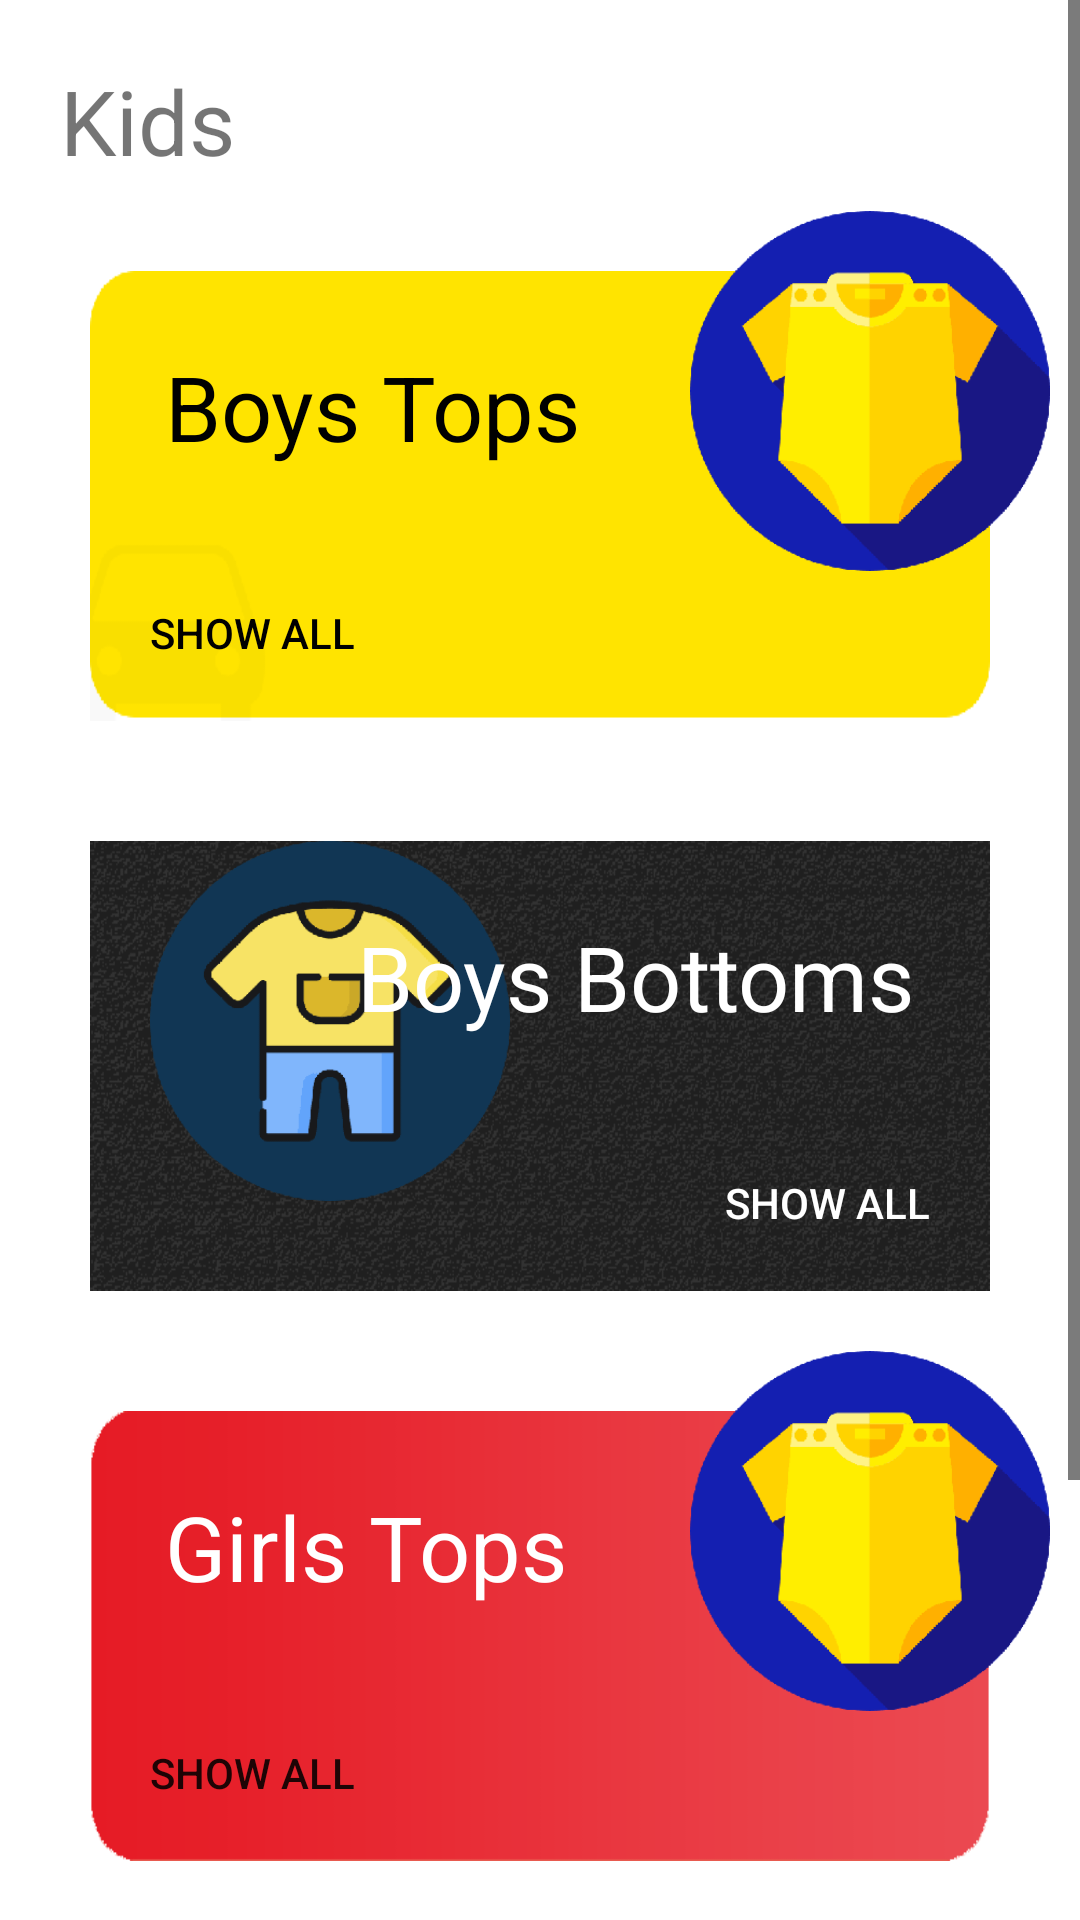

Screen size 1080w x 1920h. Icon name, then its center in pixels as [x,y]:
baby top: [870,391], [870,1531]
